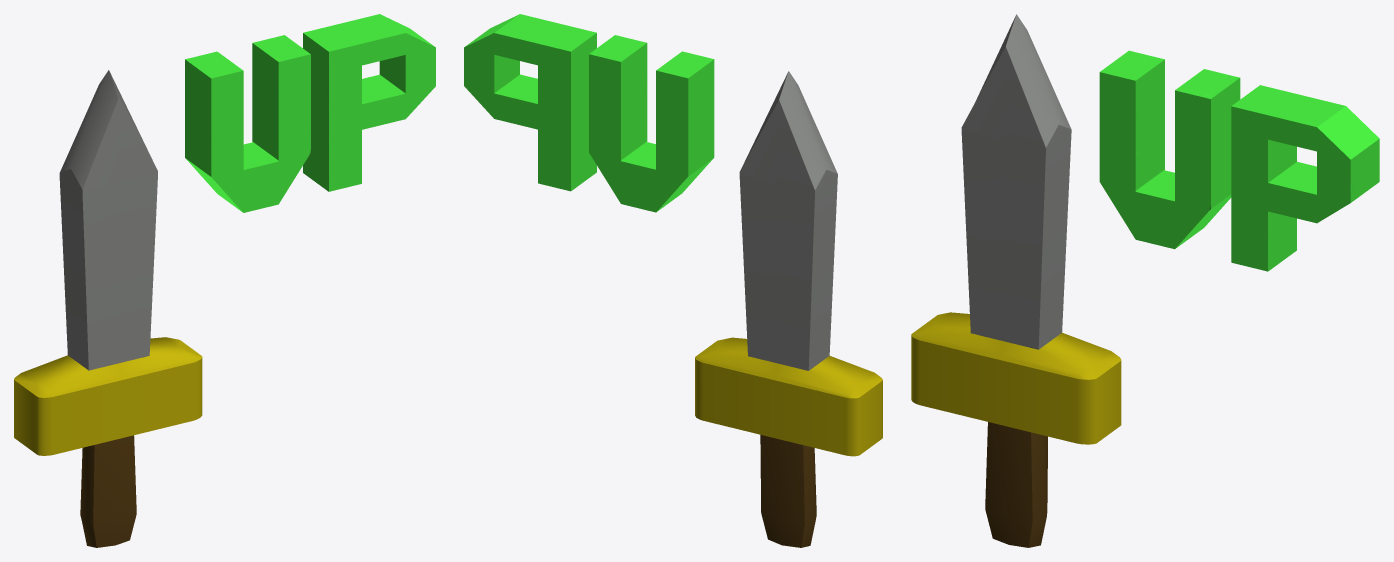
The model's file is damage_up.fbx.
3 views of the same model, side by side, from view 1: azimuth 30°, elevation 25°; view 2: azimuth 150°, elevation 25°; view 3: azimuth 330°, elevation 25° (orthographic). The views are drawn at different scales.
Visible parts, largest first — view 1: Box001; view 2: Box001; view 3: Box001.
Part boxes in pixels (left/top/right/bottom): Box001: left=14, top=14, right=435, bottom=547; Box001: left=464, top=14, right=882, bottom=547; Box001: left=911, top=14, right=1379, bottom=547.
Bounding box in the file's own units: 726 × 825 × 97.38.
1 material, 1 textured.
